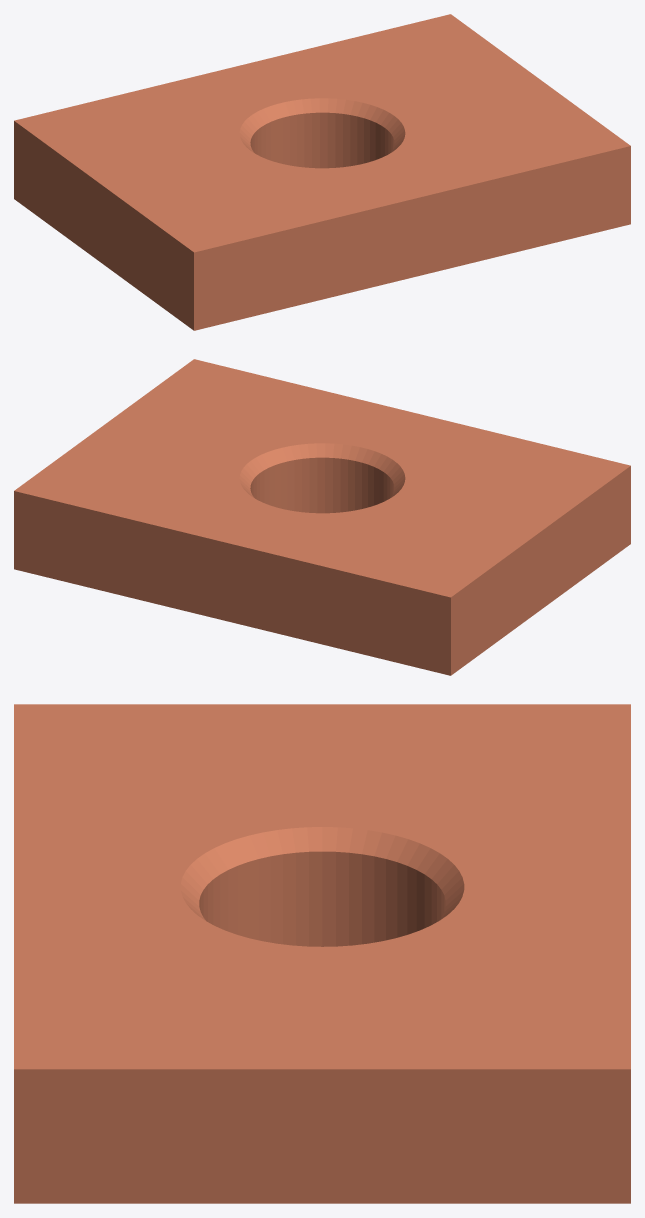
File: chamfered-bore.glb
3 renders of one model, top to bottom at view 1: azimuth 30°, elevation 25°; view 2: azimuth 150°, elevation 25°; view 3: azimuth 270°, elevation 25°, orthographic. The views are drawn at different scales.
Parts seen in each view (by area): view 1: Chamfered bore · 1.5 mm; view 2: Chamfered bore · 1.5 mm; view 3: Chamfered bore · 1.5 mm.
Part boxes in pixels (x1=…): Chamfered bore · 1.5 mm: x1=14, y1=14, x2=630, y2=330; Chamfered bore · 1.5 mm: x1=14, y1=359, x2=630, y2=675; Chamfered bore · 1.5 mm: x1=14, y1=704, x2=630, y2=1203.
Bounding box in the file's own units: 0.07 × 0.012 × 0.05.
